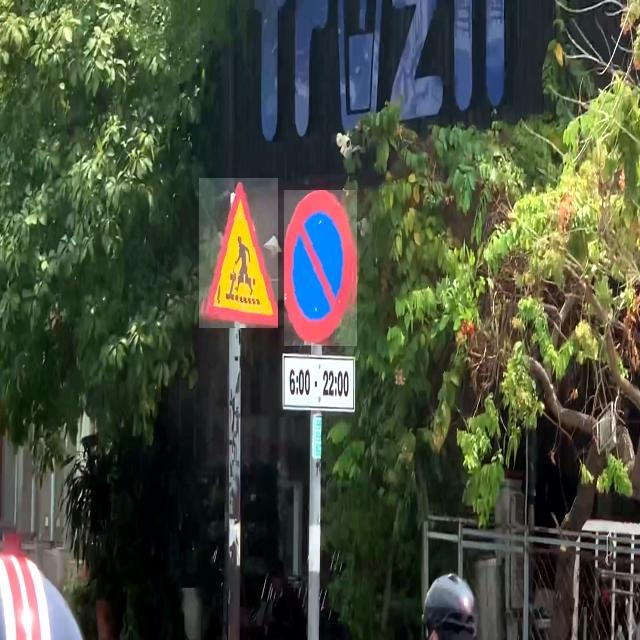bien_cam: (199, 178, 278, 328), (284, 190, 357, 346)
